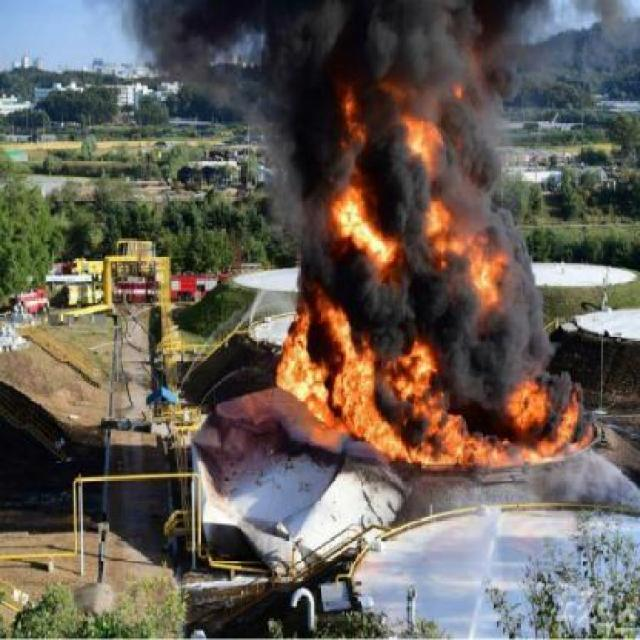Fire: (292, 97, 556, 480)
Smoke: (138, 0, 560, 240)
